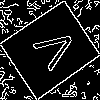V: (25, 24, 79, 77)
